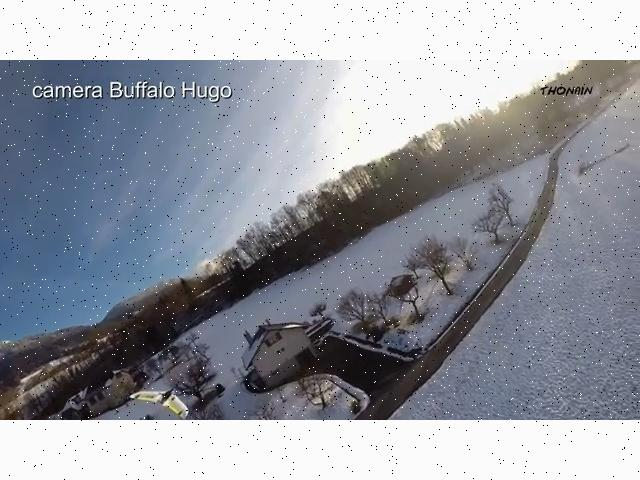Anti-Drone: (124, 385, 218, 418)
